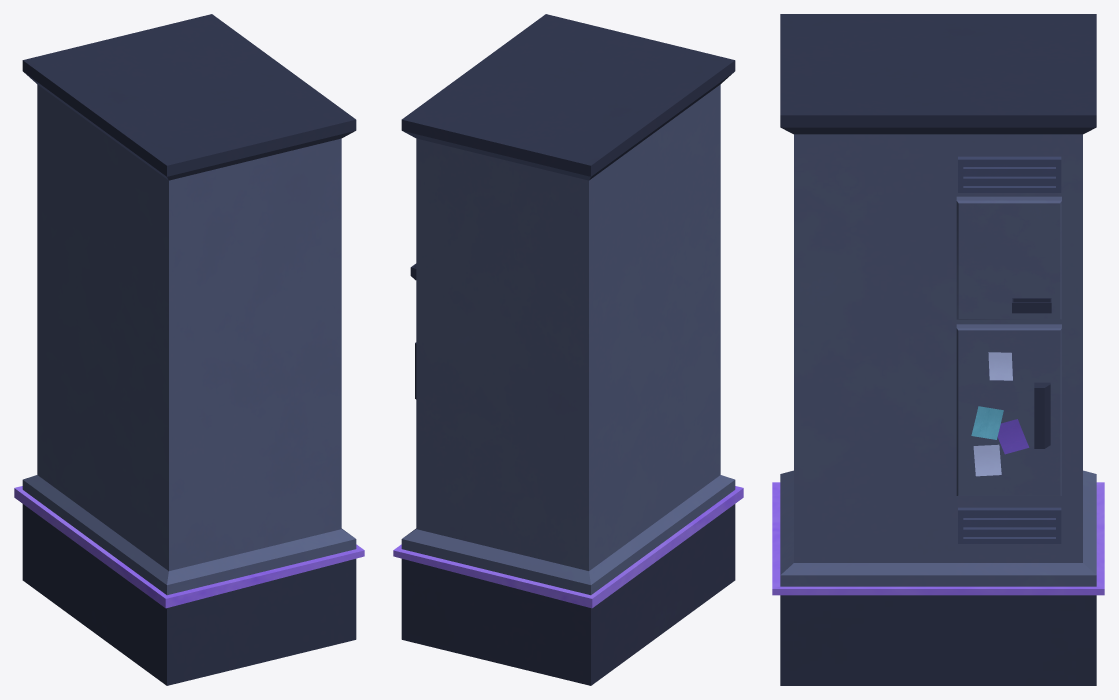
The model's file is cabinet2.fbx.
3 views of the same model, side by side, from view 1: azimuth 30°, elevation 25°; view 2: azimuth 150°, elevation 25°; view 3: azimuth 270°, elevation 25° (orthographic). The views are drawn at different scales.
Parts seen in each view (by area): view 1: cabinet9; view 2: cabinet9; view 3: cabinet9, pasted__pasted__pasted__polySurface335, pasted__pasted__polySurface65, pasted__pasted__polySurface254, pasted__pasted__polySurface253, pasted__pasted__polySurface255.
Boxes of the visible parts, x1,y1,x2,y2 form: cabinet9: (14, 14, 364, 685); cabinet9: (393, 14, 743, 685); cabinet9: (772, 14, 1104, 685); pasted__pasted__pasted__polySurface335: (956, 156, 1061, 543); pasted__pasted__polySurface65: (971, 406, 1003, 439); pasted__pasted__polySurface254: (973, 444, 1001, 476); pasted__pasted__polySurface253: (997, 419, 1029, 454); pasted__pasted__polySurface255: (988, 352, 1012, 380).
Size of the model in its own units: 17.63 by 42.61 by 22.51.
